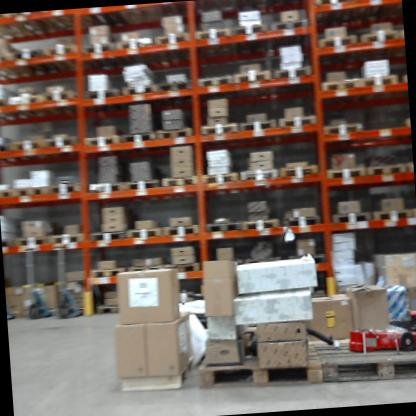pallet: (190, 336, 327, 395), (312, 317, 416, 390), (116, 358, 200, 397), (7, 89, 59, 130), (312, 32, 363, 72), (10, 42, 61, 80), (41, 129, 88, 168), (14, 180, 83, 206), (115, 35, 166, 70), (40, 86, 89, 121), (155, 28, 198, 67), (9, 135, 53, 173), (82, 82, 129, 117), (77, 41, 124, 76), (355, 22, 401, 57), (233, 63, 274, 101), (45, 41, 88, 76), (278, 110, 320, 145), (233, 19, 271, 57), (239, 115, 278, 151), (195, 24, 236, 57), (198, 119, 244, 148), (327, 207, 377, 233), (268, 15, 312, 44), (118, 78, 162, 106), (155, 124, 198, 152), (0, 138, 26, 184), (280, 158, 324, 185), (240, 164, 282, 192), (195, 67, 234, 97), (282, 214, 328, 239), (0, 48, 31, 85), (321, 72, 364, 98), (274, 66, 318, 91), (45, 227, 89, 252), (118, 129, 159, 155), (324, 120, 365, 145), (357, 70, 401, 93), (84, 134, 121, 161), (369, 206, 414, 228), (13, 229, 49, 256), (323, 163, 369, 184), (85, 222, 127, 245), (160, 171, 203, 193), (313, 0, 354, 23), (289, 249, 330, 272), (157, 76, 194, 101), (366, 160, 407, 182), (0, 92, 27, 123), (86, 260, 130, 279), (125, 174, 161, 197), (242, 217, 283, 237), (204, 218, 243, 239), (123, 227, 163, 245), (89, 180, 126, 199), (202, 172, 241, 190), (164, 259, 204, 276), (162, 225, 204, 241), (126, 261, 168, 277), (354, 0, 393, 16), (94, 303, 129, 319), (0, 185, 19, 205), (3, 233, 12, 253)
pallet_truck: (12, 226, 56, 326), (47, 227, 89, 323), (3, 241, 19, 328)
